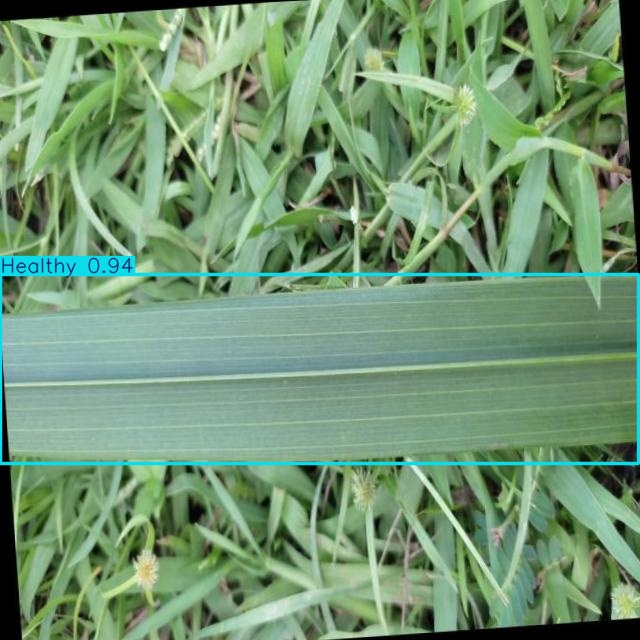Healthy: (1, 274, 639, 463)
